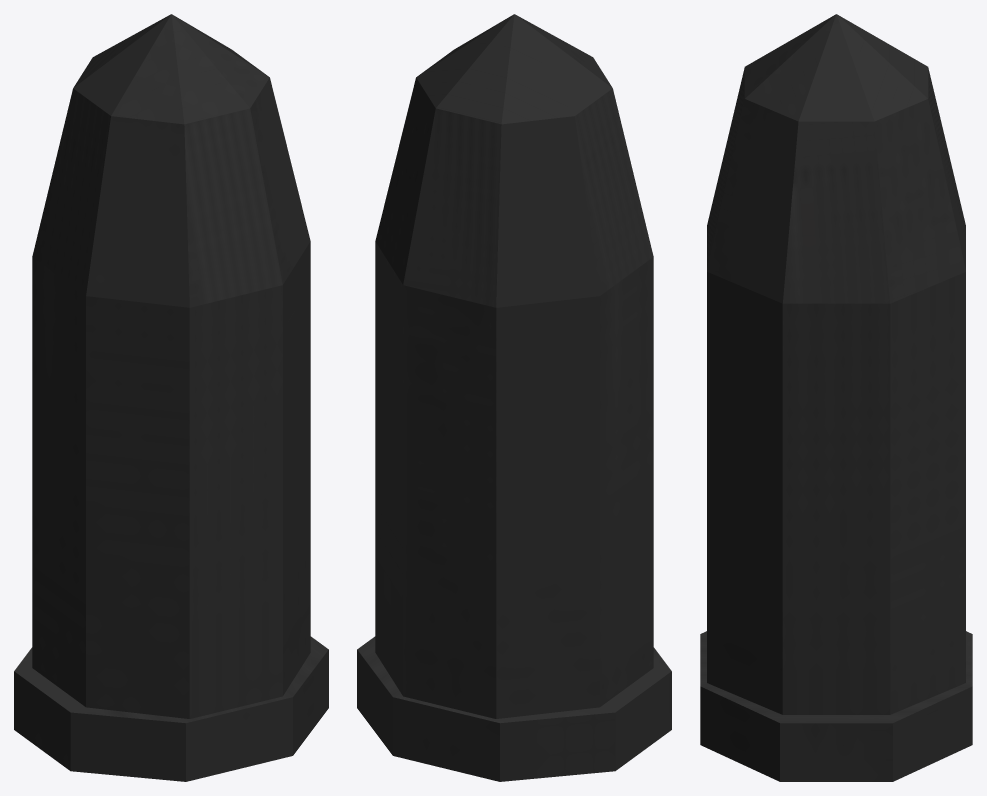
Rendered from bullet.obj.
3 views of the same model, side by side, from view 1: azimuth 30°, elevation 25°; view 2: azimuth 150°, elevation 25°; view 3: azimuth 270°, elevation 25° (orthographic).
Parts seen in each view (by area): view 1: cylinder, sphere; view 2: cylinder, sphere; view 3: cylinder, sphere.
Boxes of the visible parts, bbox=[...] form: cylinder: bbox=[14, 242, 328, 781]; sphere: bbox=[32, 14, 310, 307]; cylinder: bbox=[357, 242, 671, 781]; sphere: bbox=[375, 14, 653, 307]; cylinder: bbox=[700, 272, 972, 781]; sphere: bbox=[707, 14, 965, 303].
Size of the model in its own units: 0.2875 by 0.75 by 0.2625.
